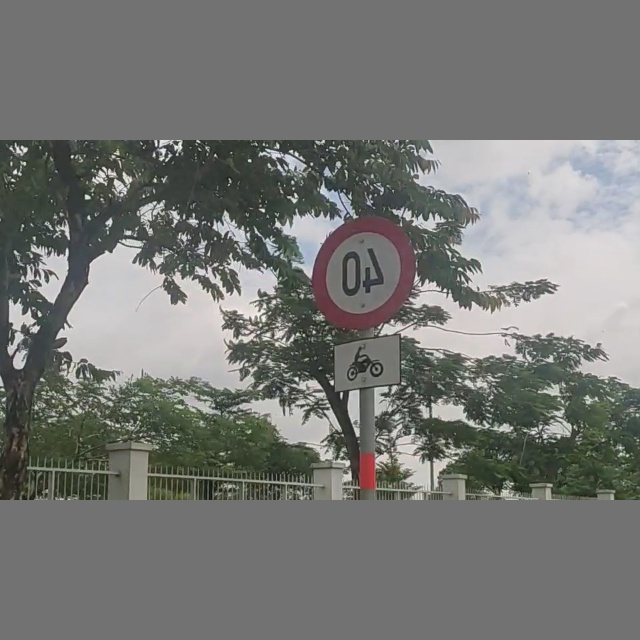P.127*40: (311, 216, 417, 335)
S.505a*Xe may: (325, 330, 408, 398)
